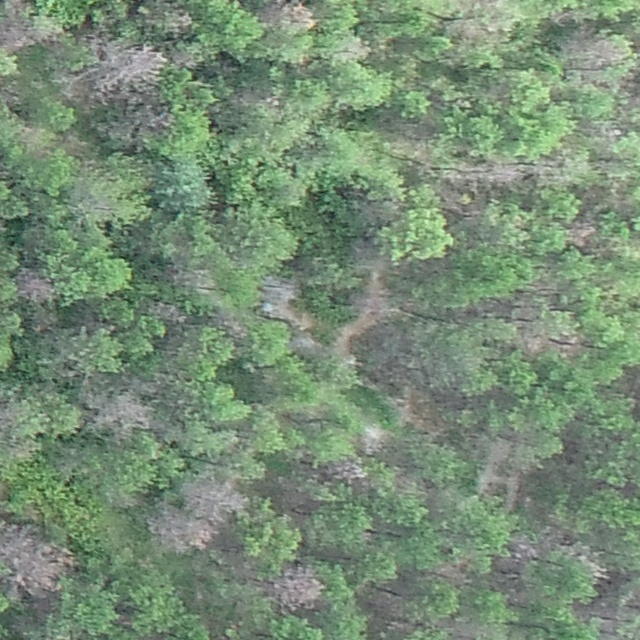unhealthy: (4, 525, 74, 595), (91, 41, 165, 99), (146, 510, 213, 558), (92, 391, 155, 439), (186, 469, 251, 515), (269, 563, 327, 612), (480, 437, 515, 498), (569, 34, 626, 69), (260, 0, 315, 30), (49, 66, 89, 106), (13, 270, 55, 304), (168, 264, 216, 292), (259, 274, 301, 306), (273, 478, 311, 513), (157, 2, 195, 35), (0, 19, 35, 54), (329, 458, 366, 485), (515, 327, 548, 357), (359, 425, 392, 455), (215, 311, 249, 340), (484, 161, 523, 186), (137, 106, 173, 133), (146, 300, 185, 324), (436, 559, 471, 585), (508, 534, 540, 562), (553, 330, 586, 357), (567, 219, 597, 248), (338, 36, 370, 61), (289, 332, 322, 356), (170, 48, 202, 69), (457, 19, 483, 40), (4, 0, 33, 14)
